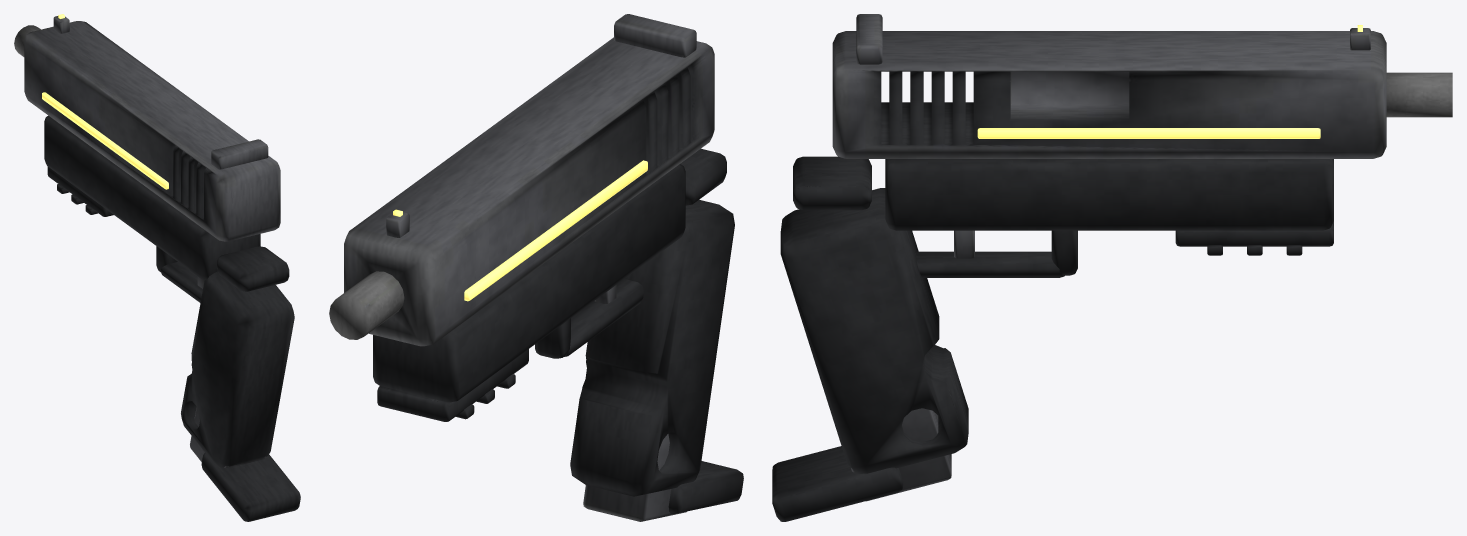
Rendered from pistol-legacy.glb.
The picture shows the model from 3 angles, left to right: view 1: azimuth 30°, elevation 25°; view 2: azimuth 150°, elevation 25°; view 3: azimuth 270°, elevation 25°; orthographic projection. The views are drawn at different scales.
Parts seen in each view (by area): view 1: PistolBody, PistolAction, PistolMag, PistolAccent; view 2: PistolBody, PistolAction, PistolMag, PistolAccent; view 3: PistolBody, PistolAction, PistolMag, PistolAccent.
Part boxes in pixels (bbox=[...]): PistolBody: bbox=[14, 25, 294, 467]; PistolAction: bbox=[24, 16, 280, 241]; PistolMag: bbox=[190, 407, 300, 521]; PistolAccent: bbox=[42, 14, 168, 189]; PistolBody: bbox=[329, 148, 734, 496]; PistolAction: bbox=[344, 14, 714, 346]; PistolMag: bbox=[583, 434, 743, 521]; PistolAccent: bbox=[393, 160, 647, 301]; PistolBody: bbox=[780, 72, 1452, 473]; PistolAction: bbox=[832, 14, 1386, 158]; PistolMag: bbox=[772, 408, 951, 521]; PistolAccent: bbox=[977, 25, 1362, 138].
Size of the model in its own units: 0.042 by 0.2003 by 0.2579.
2 materials, 1 textured.
